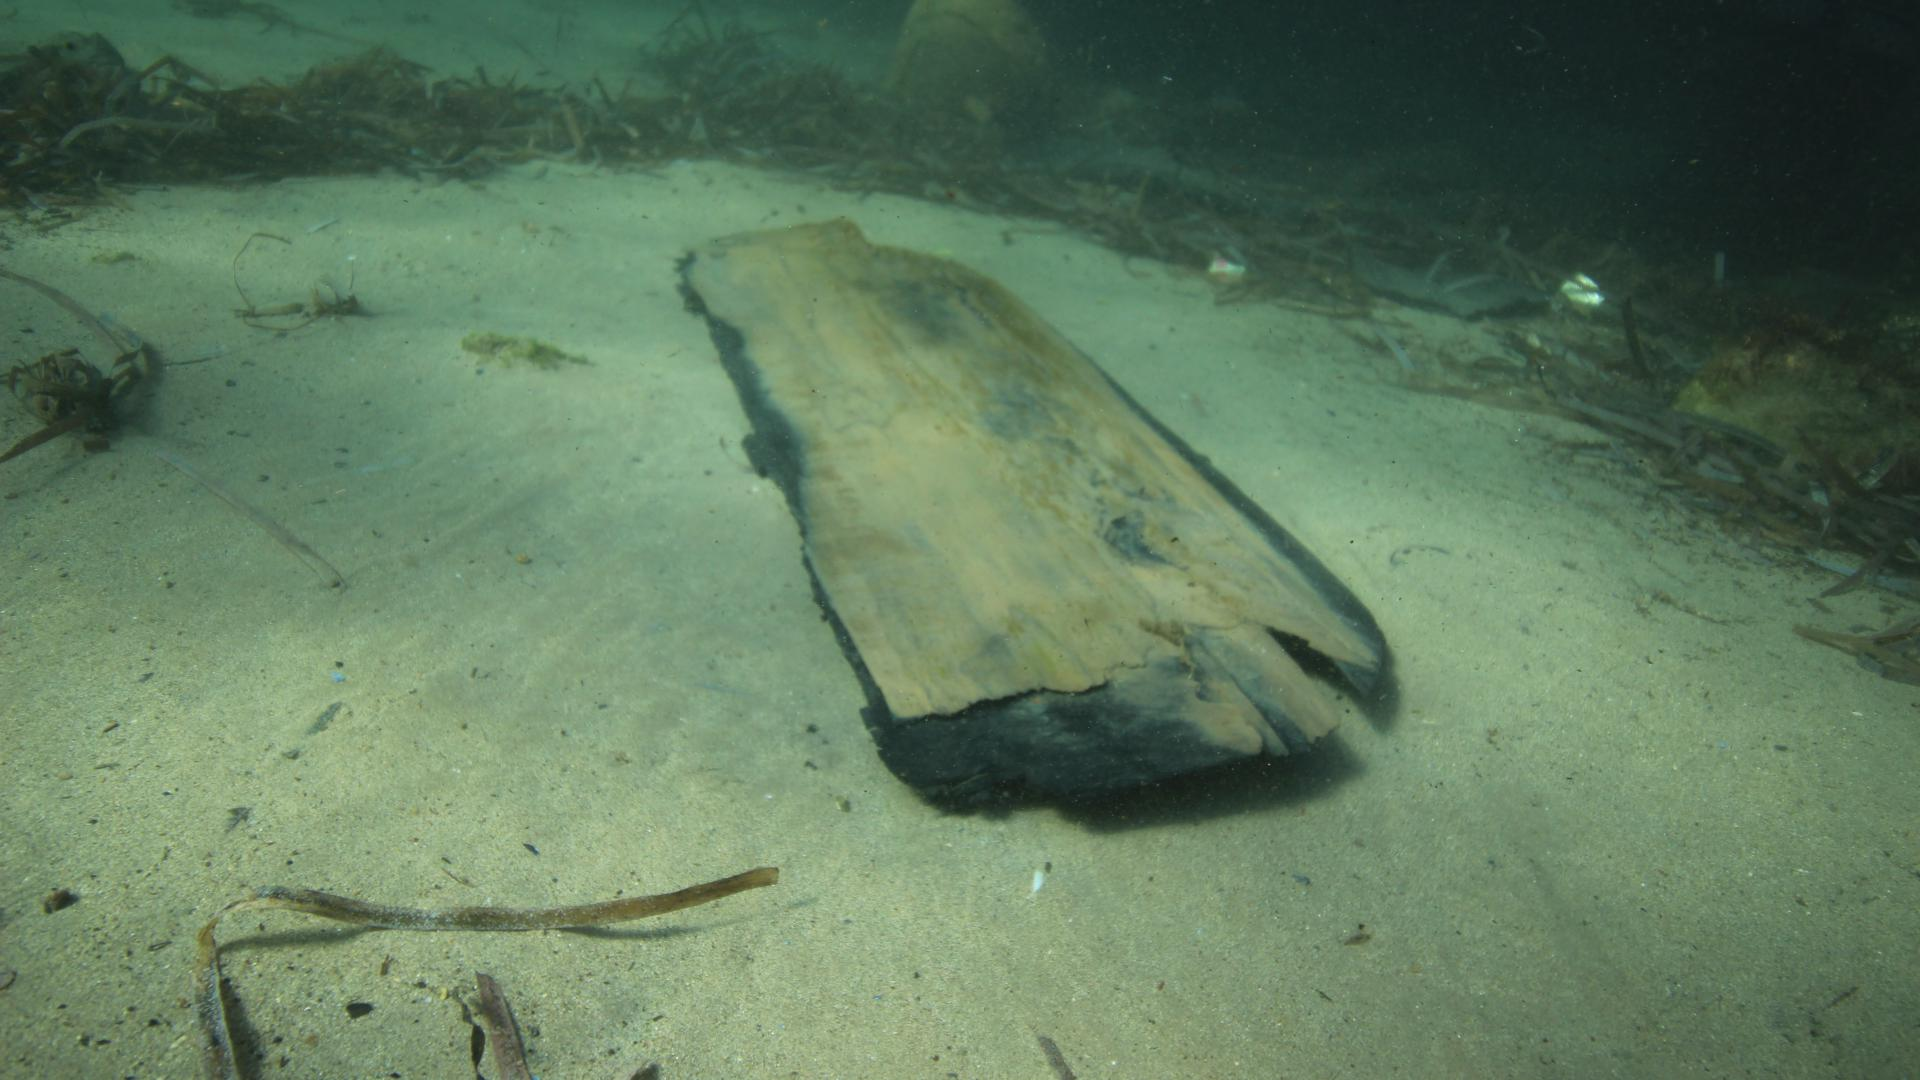wood: (678, 216, 1391, 808)
